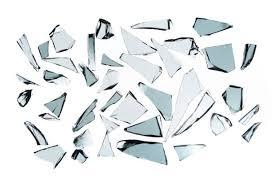glass shard: (164, 68, 203, 141), (171, 91, 215, 138), (138, 82, 172, 121), (117, 140, 167, 166), (110, 90, 148, 124), (120, 53, 163, 83), (151, 37, 181, 77), (121, 27, 157, 55), (202, 44, 234, 73), (124, 115, 163, 137), (17, 34, 40, 71), (33, 144, 67, 169), (192, 17, 233, 37), (73, 99, 97, 132), (164, 36, 200, 56), (49, 25, 75, 52), (222, 84, 243, 113), (24, 121, 49, 145), (44, 92, 67, 118), (97, 69, 119, 94), (44, 57, 78, 73), (174, 144, 206, 161), (96, 130, 115, 157), (211, 111, 233, 134), (78, 63, 99, 87), (100, 91, 123, 112), (132, 19, 173, 30), (43, 70, 71, 86), (240, 43, 256, 70), (241, 122, 261, 142), (95, 18, 114, 39), (238, 105, 259, 124), (74, 129, 93, 148), (100, 115, 120, 133), (87, 33, 96, 70), (16, 73, 43, 85), (101, 53, 125, 66), (71, 149, 88, 164), (17, 89, 31, 107), (37, 41, 50, 58), (39, 112, 60, 120)
